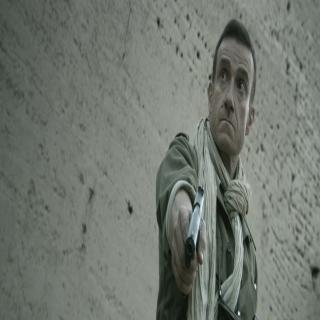gun: (182, 182, 207, 295)
